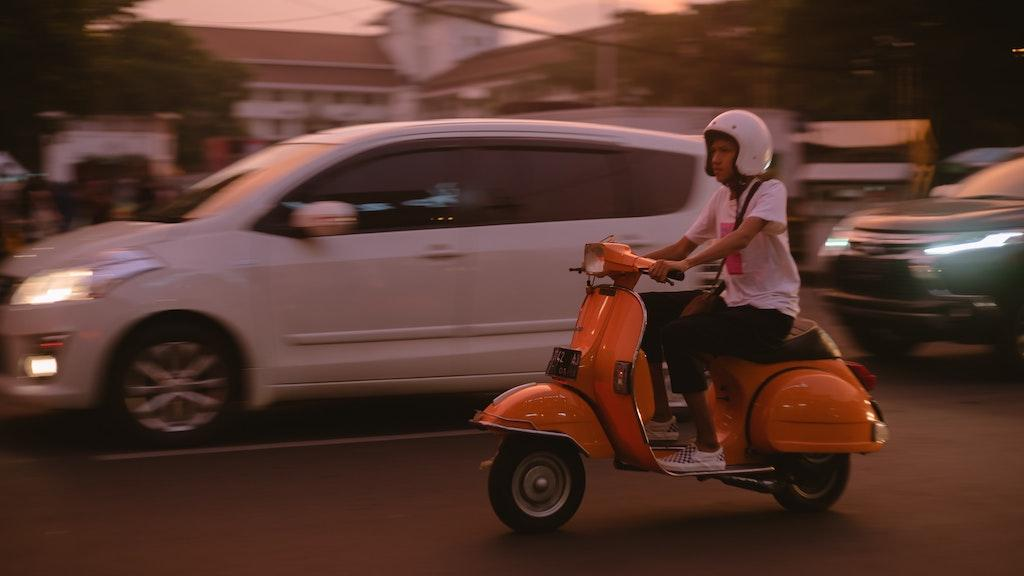helmet: (702, 108, 775, 192)
